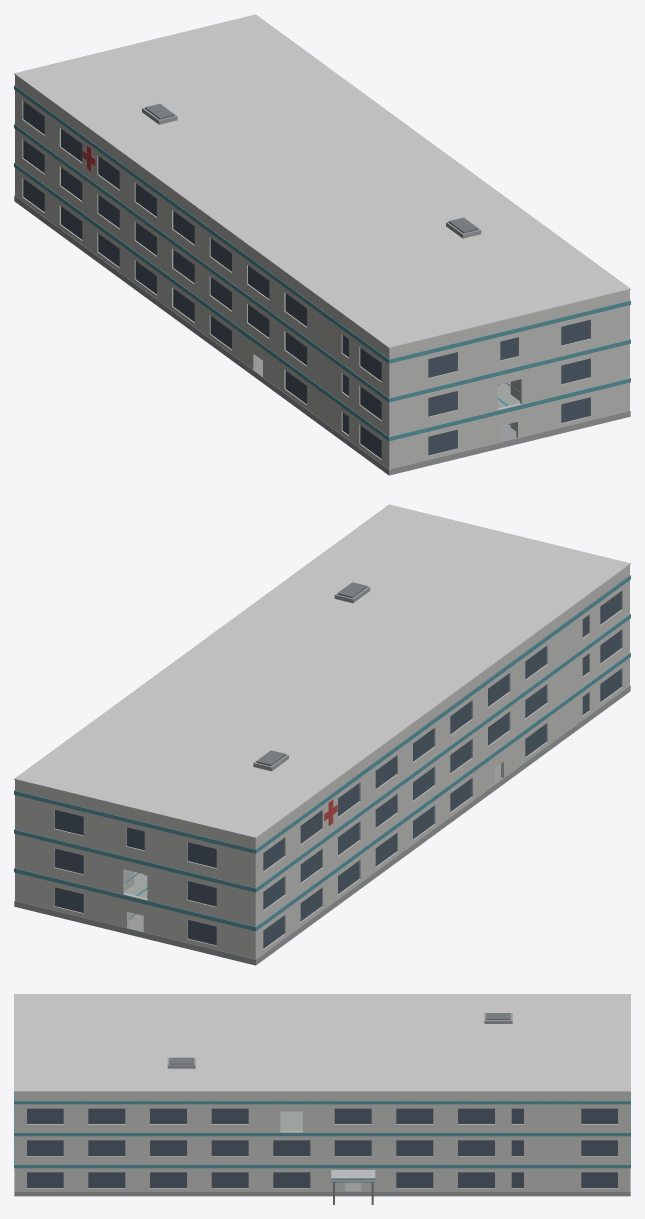
The model's file is hosp-west.mega-v1.lod0.glb.
3 views of the same model, one above another, from view 1: azimuth 30°, elevation 25°; view 2: azimuth 150°, elevation 25°; view 3: azimuth 270°, elevation 25° (orthographic). The views are drawn at different scales.
Parts seen in each view (by area): view 1: hosp-west; view 2: hosp-west; view 3: hosp-west.
Part boxes in pixels (<box>): hosp-west: <box>14,14,630,475</box>; hosp-west: <box>14,504,630,965</box>; hosp-west: <box>14,994,630,1204</box>.
Bounding box in the file's own units: 28.68 × 13.75 × 70.12.
